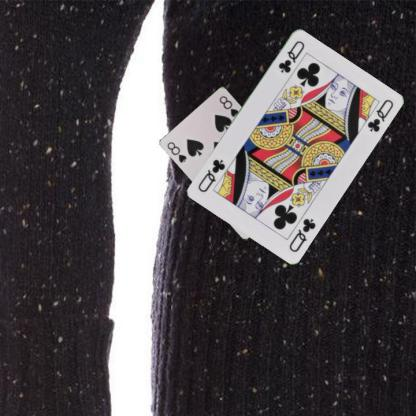8s: (165, 139, 188, 164)
Qc: (286, 215, 317, 253), (275, 38, 306, 74)
